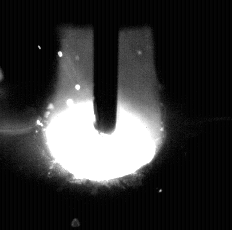arame: (94, 0, 119, 134)
poca: (46, 0, 165, 230)
